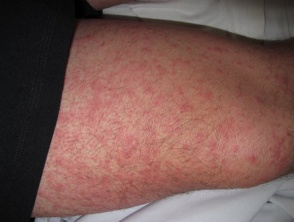SJS-TEN: (42, 20, 291, 219)
